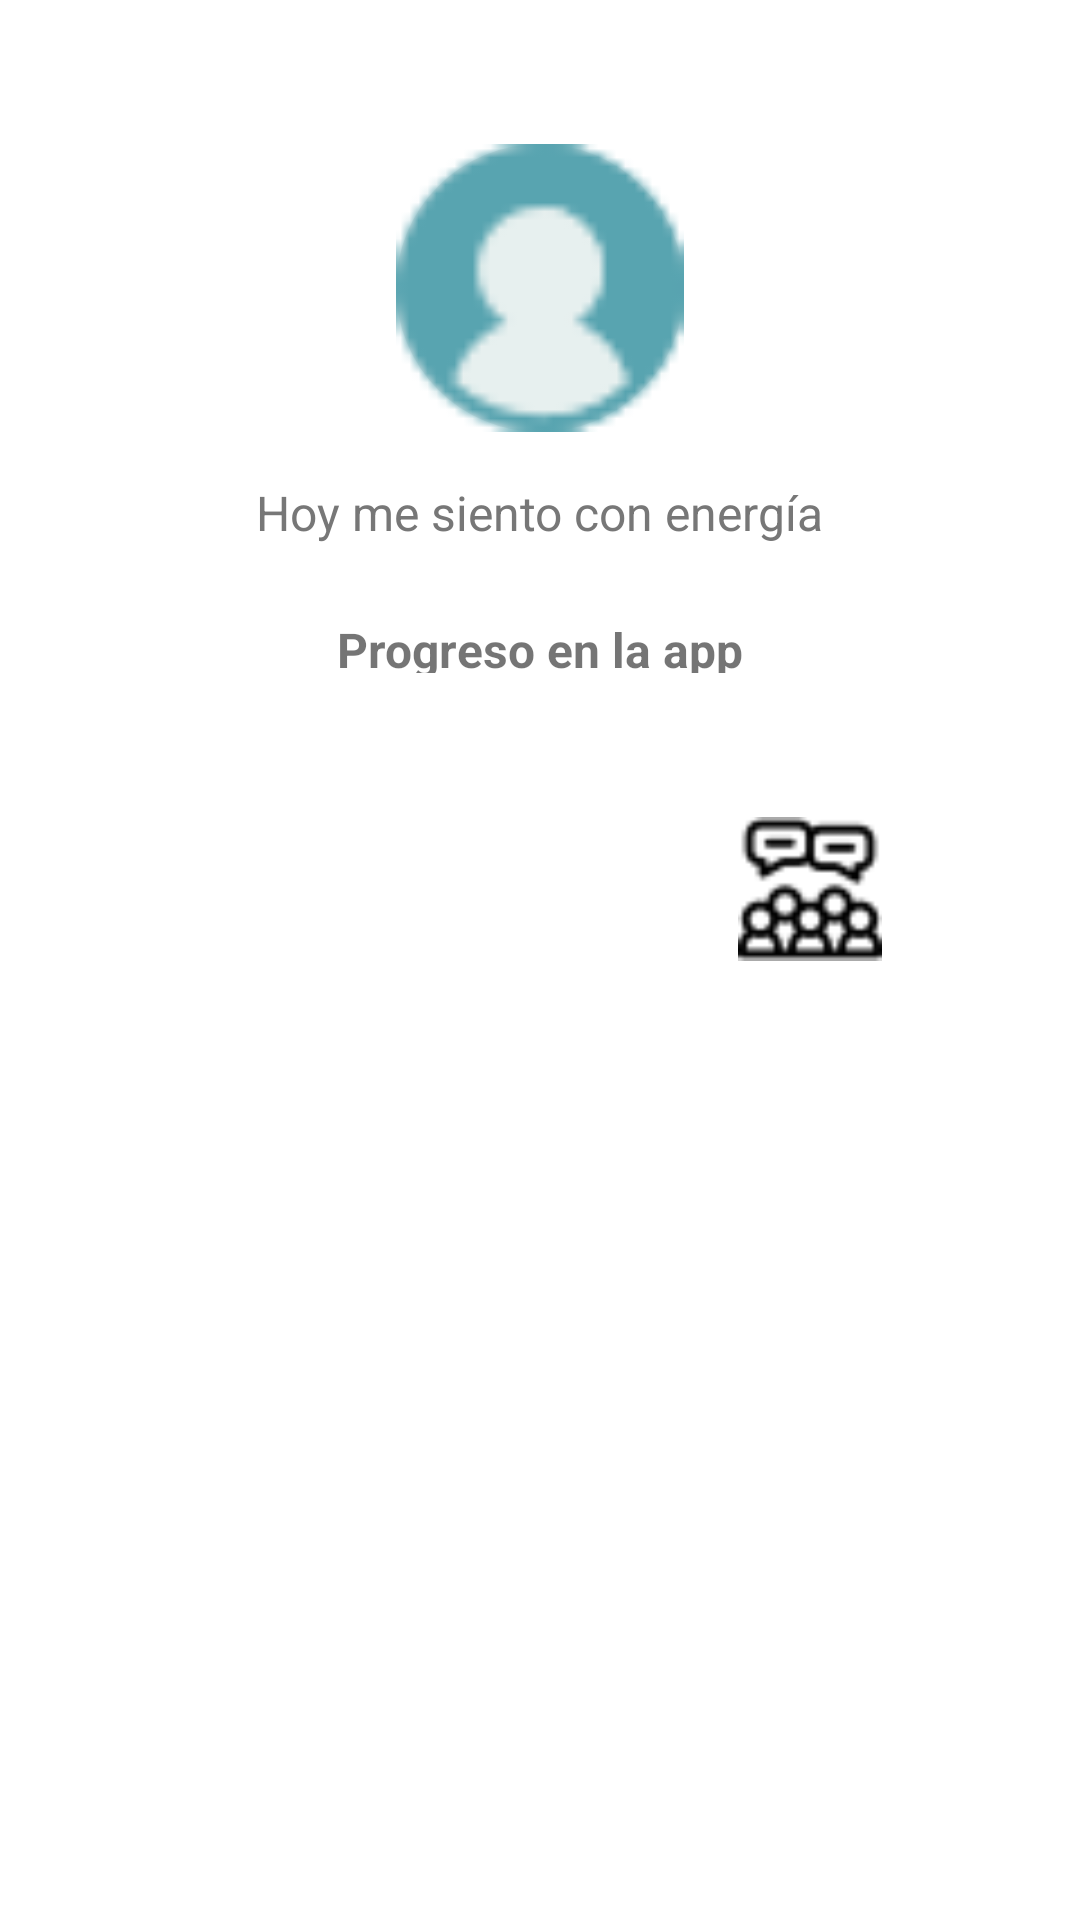

Named icons in this screenshot (1080 x 1920) and their centers, [x,y]:
perfil por defecto: [540,288]
Ver grupos: [810,889]
